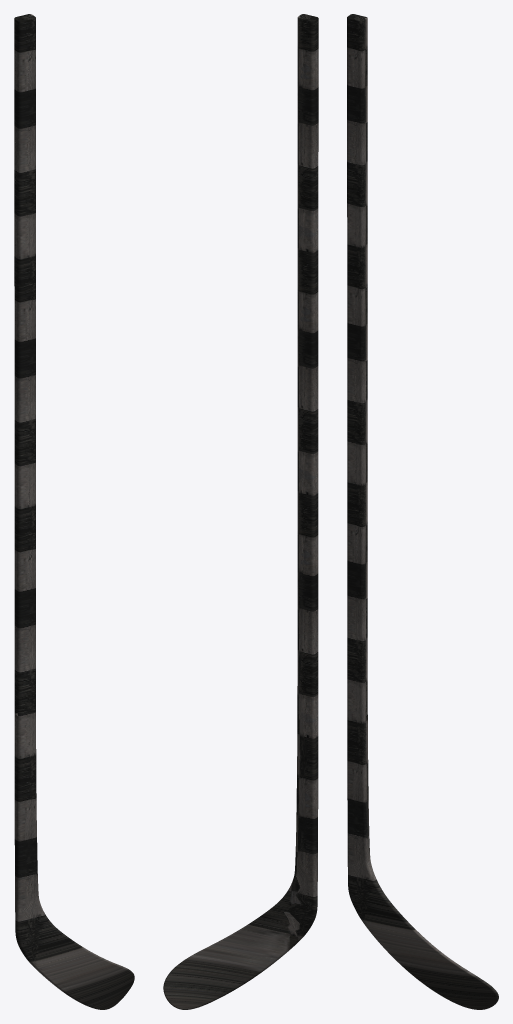
3 renders of one model, left to right at view 1: azimuth 30°, elevation 25°; view 2: azimuth 150°, elevation 25°; view 3: azimuth 330°, elevation 25°, orthographic. The views are drawn at different scales.
Parts seen in each view (by area): view 1: geometry_0; view 2: geometry_0; view 3: geometry_0.
Part boxes in pixels (bbox=[...]): geometry_0: bbox=[14, 14, 134, 1009]; geometry_0: bbox=[163, 14, 318, 1009]; geometry_0: bbox=[347, 14, 498, 1009].
Bounding box in the file's own units: 230 × 1650 × 76.6.
1 material, 1 textured.
